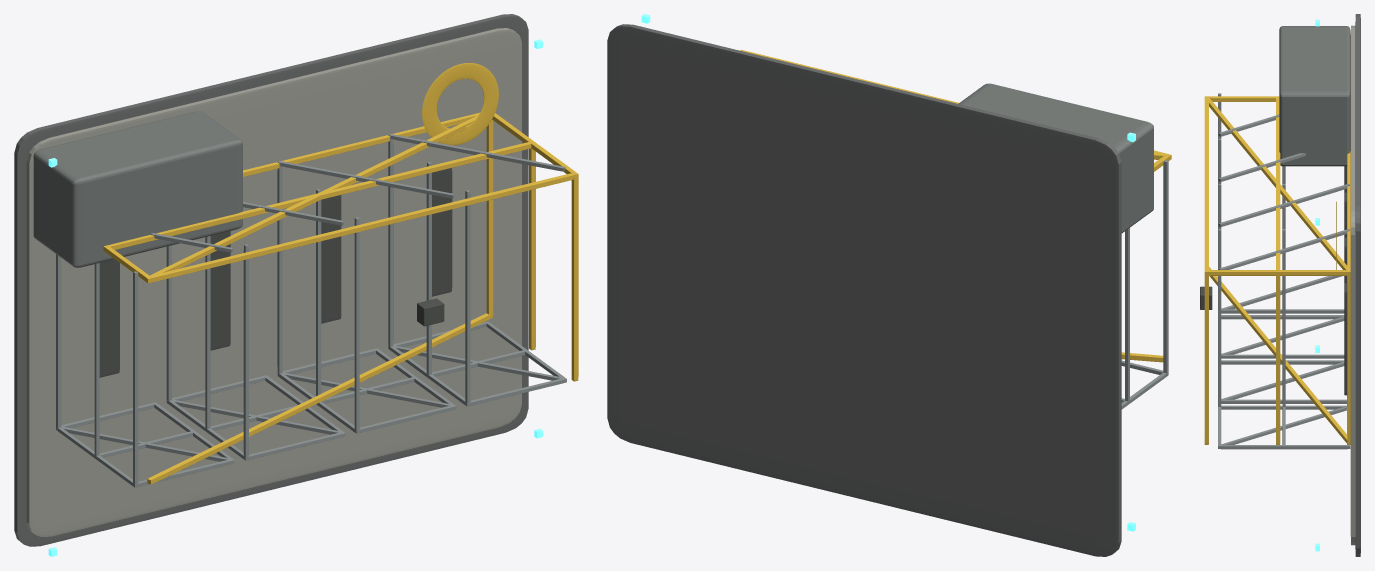
File: b-16-vehicle-depot-lod2.glb
The picture shows the model from 3 angles, left to right: view 1: azimuth 30°, elevation 25°; view 2: azimuth 150°, elevation 25°; view 3: azimuth 270°, elevation 25°; orthographic projection. The views are drawn at different scales.
Parts seen in each view (by area): view 1: foundation_inner_pad, workshop_main_hall, foundation, service_crane_beam_x_2_n, fuel_tank_ring_low, service_crane_beam_x_1_n, service_crane_brace_b_-3.4, service_pit_0, service_crane_brace_b_3.4, service_pit_2, service_pit_3, service_pit_1 (+23 smaller); view 2: foundation, workshop_main_hall, service_bay_frame_0_beam_y_2_w, service_bay_frame_0_beam_y_1_w; view 3: workshop_main_hall, foundation, foundation_inner_pad, service_crane_brace_b_3.4, service_crane_brace_b_-3.4, service_crane_beam_x_2_n, service_crane_beam_y_2_e, service_crane_beam_y_1_e, service_crane_column_e_n, service_crane_beam_x_1_n, service_crane_beam_y_0_e, service_bay_frame_3_beam_y_2_w (+19 smaller).
Boxes of the visible parts, box(x1,y1,x2,y2) form: foundation_inner_pad: box(26, 28, 521, 536); workshop_main_hall: box(33, 111, 242, 267); foundation: box(14, 14, 528, 546); service_crane_beam_x_2_n: box(145, 173, 578, 283); fuel_tank_ring_low: box(422, 63, 498, 145); service_crane_beam_x_1_n: box(103, 142, 531, 251); service_crane_brace_b_-3.4: box(147, 313, 491, 484); service_pit_0: box(99, 259, 119, 377); service_crane_brace_b_3.4: box(150, 115, 478, 275); service_pit_2: box(321, 195, 341, 323); service_pit_3: box(432, 168, 452, 296); service_pit_1: box(210, 231, 230, 350); foundation: box(607, 24, 1121, 556); workshop_main_hall: box(958, 83, 1153, 233); service_bay_frame_0_beam_y_2_w: box(1163, 160, 1168, 373); service_bay_frame_0_beam_y_1_w: box(1125, 228, 1129, 401); workshop_main_hall: box(1279, 26, 1350, 166); foundation: box(1355, 14, 1360, 556); foundation_inner_pad: box(1350, 25, 1355, 545); service_crane_brace_b_3.4: box(1208, 98, 1347, 270); service_crane_brace_b_-3.4: box(1209, 267, 1347, 443); service_crane_beam_x_2_n: box(1204, 96, 1208, 275); service_crane_beam_y_2_e: box(1204, 270, 1208, 444); service_crane_beam_y_1_e: box(1276, 271, 1280, 444); service_crane_column_e_n: box(1208, 270, 1347, 275); service_crane_beam_x_1_n: box(1276, 98, 1280, 275); service_crane_beam_y_0_e: box(1347, 270, 1350, 444); service_bay_frame_3_beam_y_2_w: box(1218, 229, 1221, 406).
Size of what is drawn, in the model's own units: 18 by 14 by 5.86.
